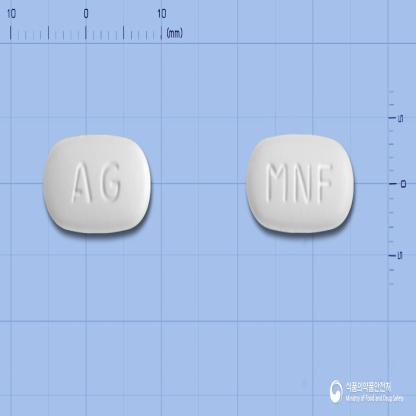pill: (245, 132, 356, 233), (42, 134, 152, 233)
